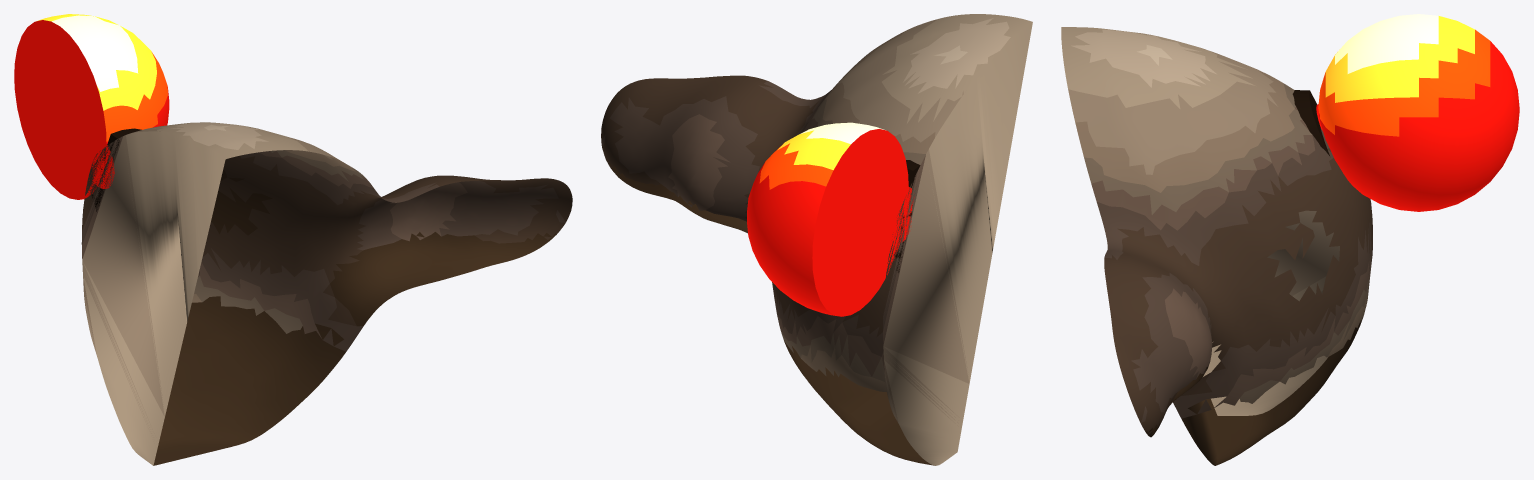
Rendered from tan_dome_205.glb.
The picture shows the model from 3 angles, left to right: view 1: azimuth 30°, elevation 25°; view 2: azimuth 150°, elevation 25°; view 3: azimuth 270°, elevation 25°; orthographic projection. The views are drawn at different scales.
Parts seen in each view (by area): view 1: tan_dome_205; view 2: tan_dome_205; view 3: tan_dome_205.
Boxes of the visible parts, x1=… form: tan_dome_205: x1=14, y1=14, x2=572, y2=465; tan_dome_205: x1=601, y1=14, x2=1032, y2=465; tan_dome_205: x1=1061, y1=14, x2=1519, y2=465.
Bounding box in the file's own units: 17.87 × 16.75 × 17.28.
